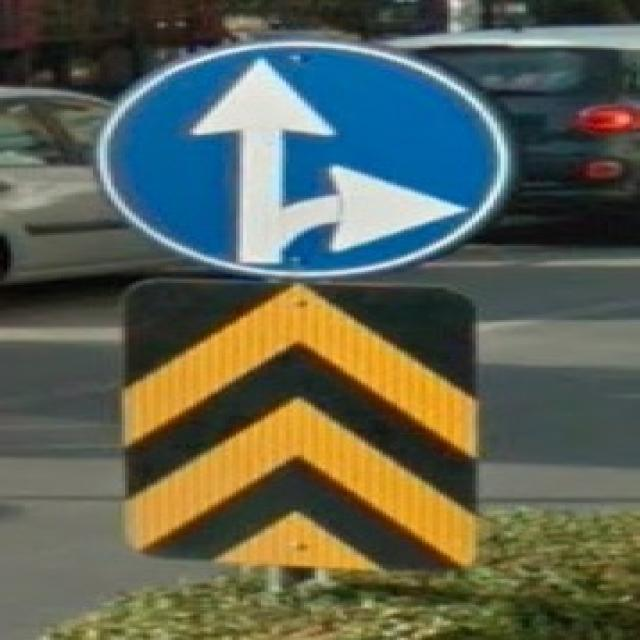Straight or Right: (92, 40, 493, 280)
